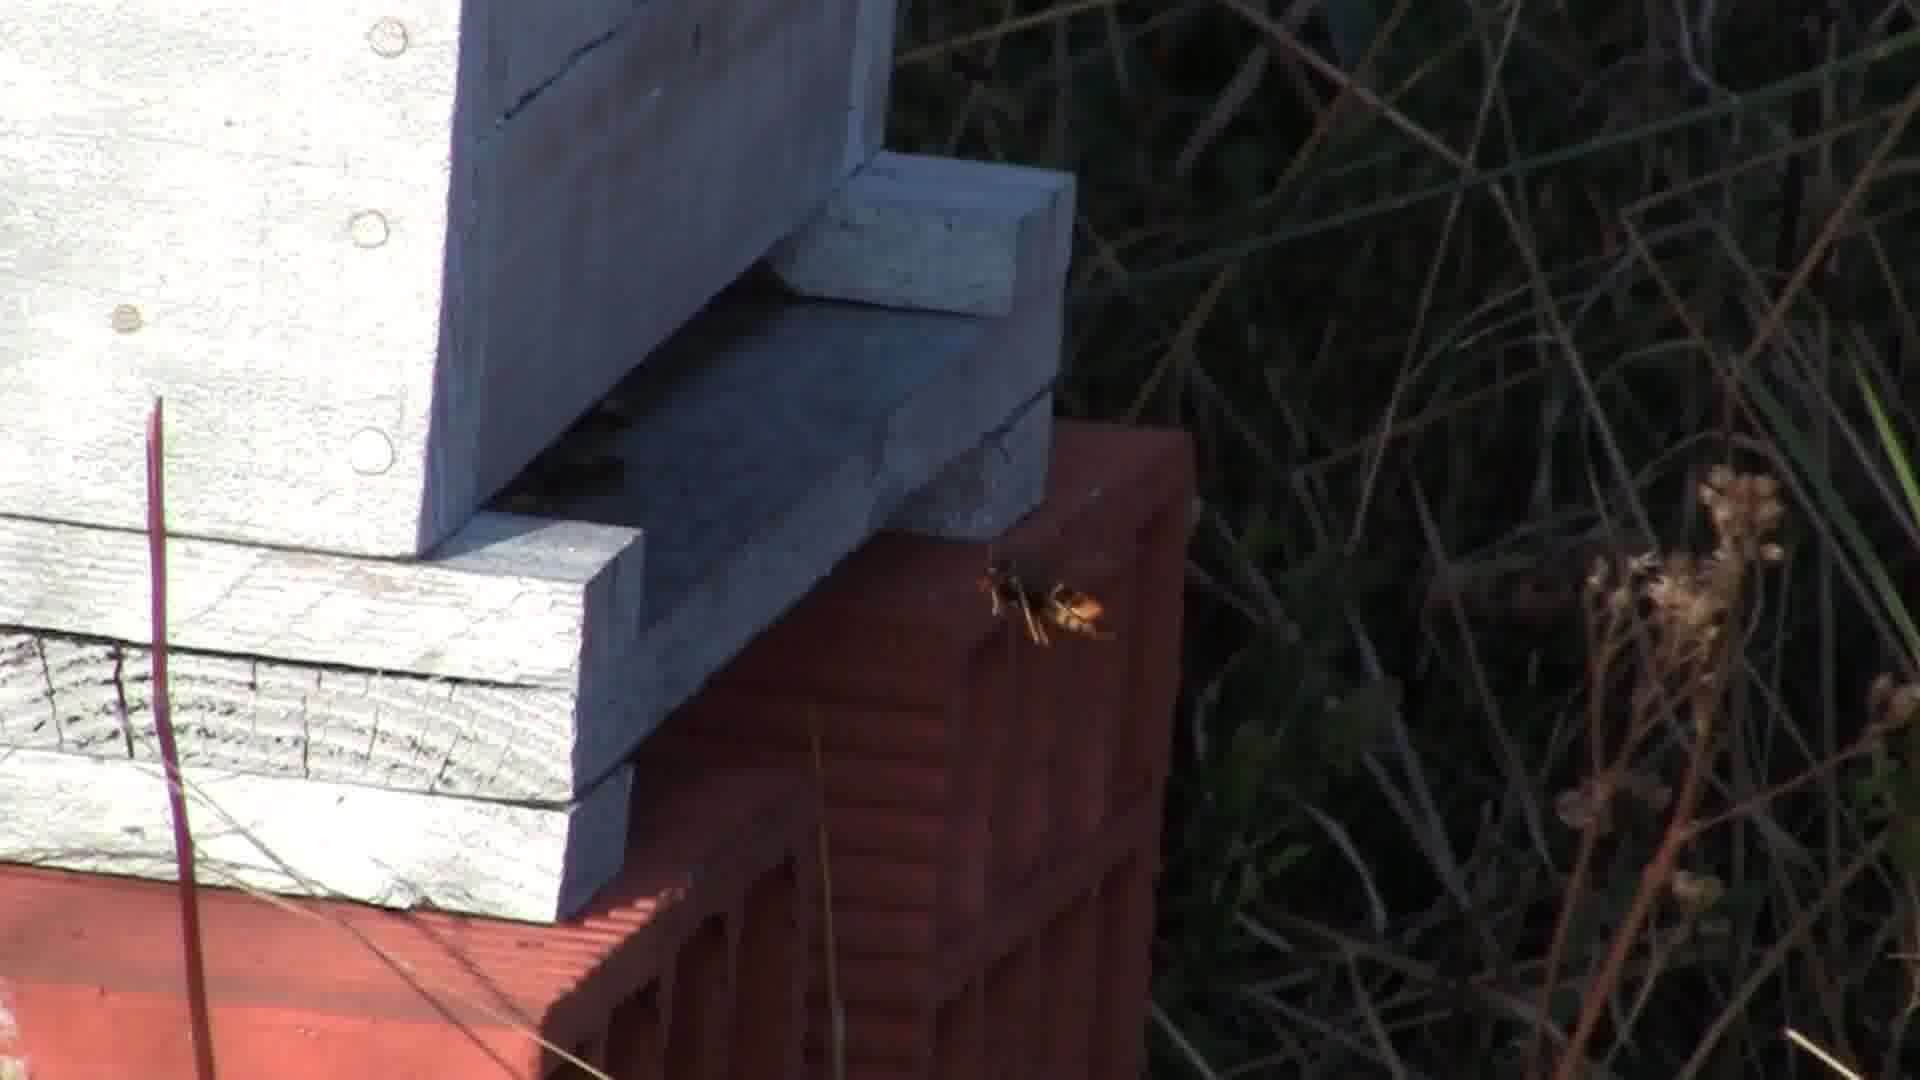hornet: (957, 541, 1109, 653)
